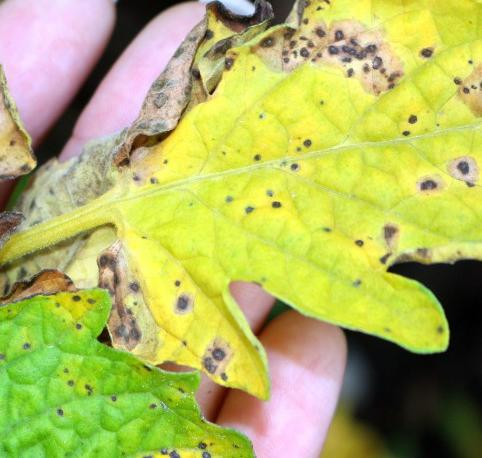Tomato Septoria leaf spot: (85, 0, 482, 361), (0, 221, 310, 458)
